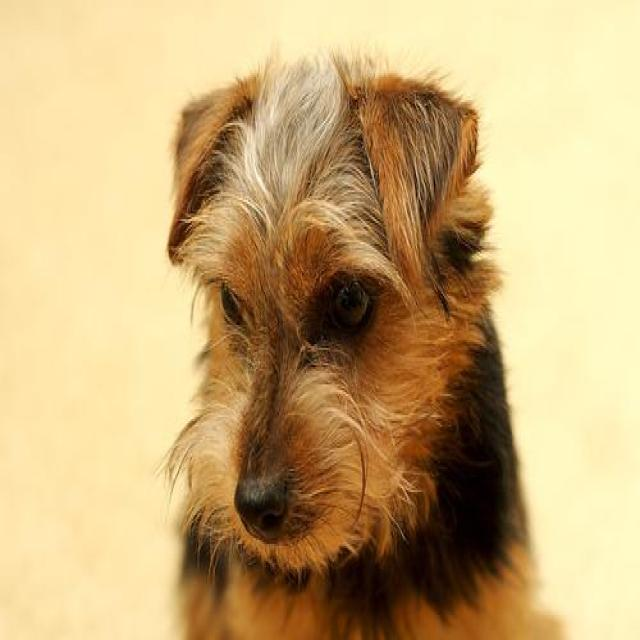dogs: (141, 51, 554, 640)
